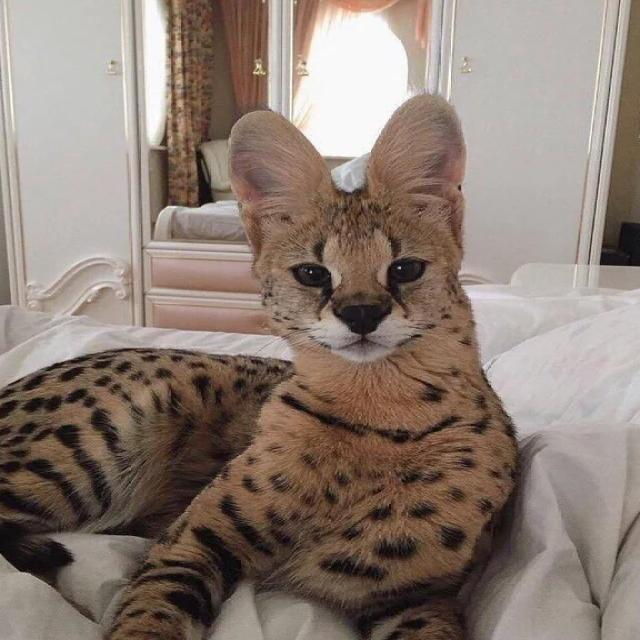Savannah: (0, 90, 532, 640)
